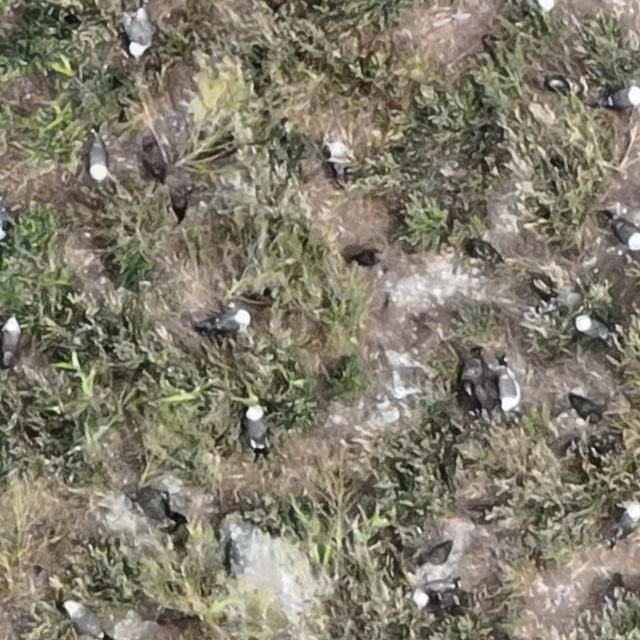umineko: (64, 600, 104, 636), (129, 12, 150, 54), (498, 368, 518, 409), (614, 504, 638, 537), (244, 405, 264, 444), (88, 141, 108, 180), (3, 319, 22, 360), (330, 142, 349, 182), (614, 218, 639, 248), (411, 590, 452, 608), (608, 85, 638, 108), (216, 308, 248, 329), (576, 315, 606, 336), (535, 0, 554, 9)
